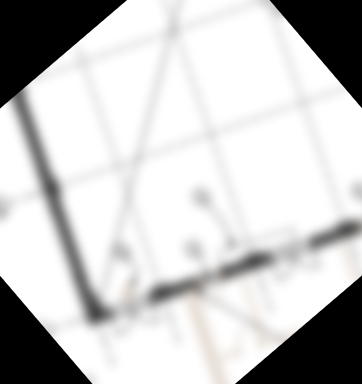double door: (101, 287, 168, 352), (264, 234, 327, 295)
window: (0, 98, 72, 180), (27, 208, 100, 284)
